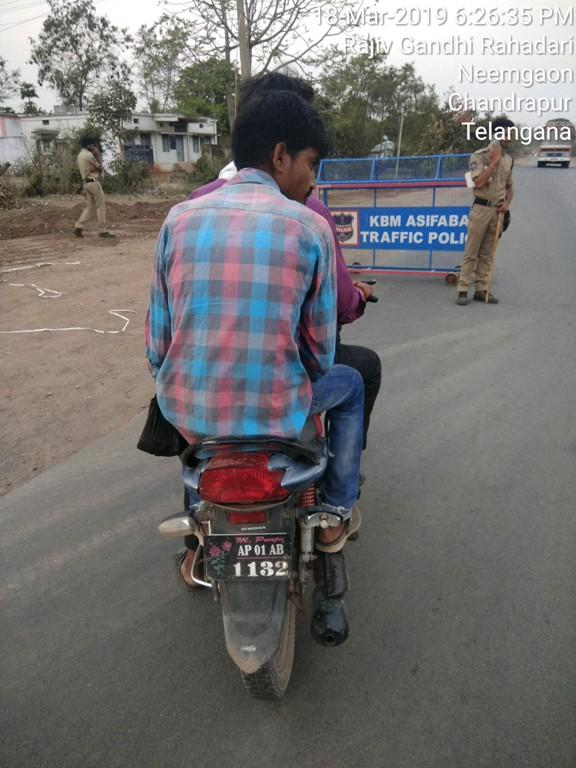plate: (194, 531, 300, 586)
